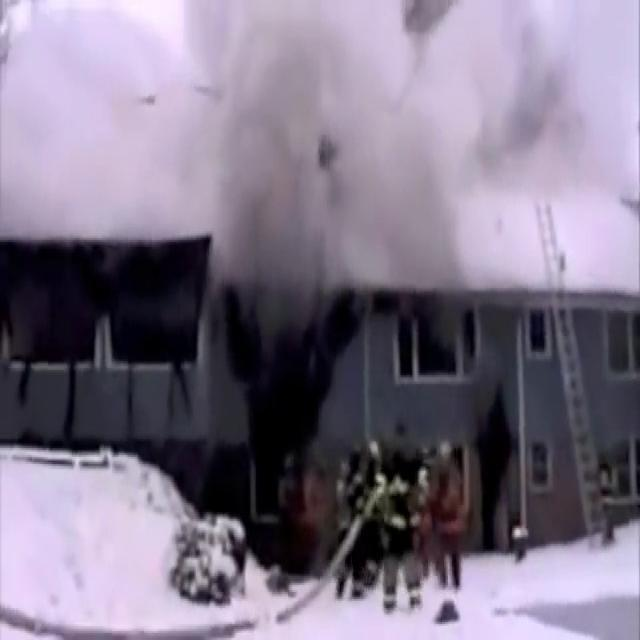Smoke: (228, 0, 640, 283)
